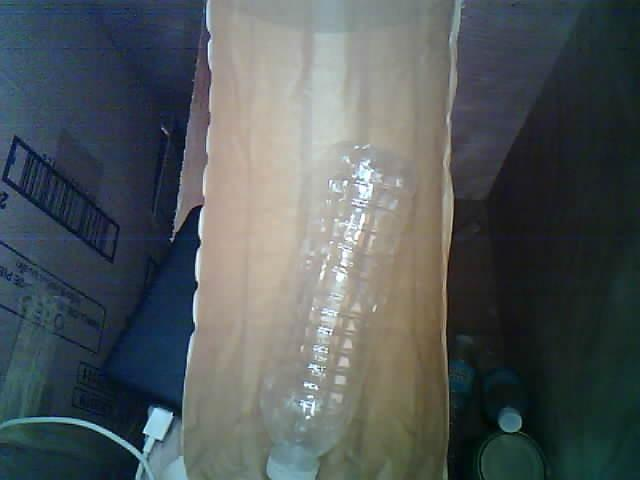small_bottle: (243, 142, 426, 480)
